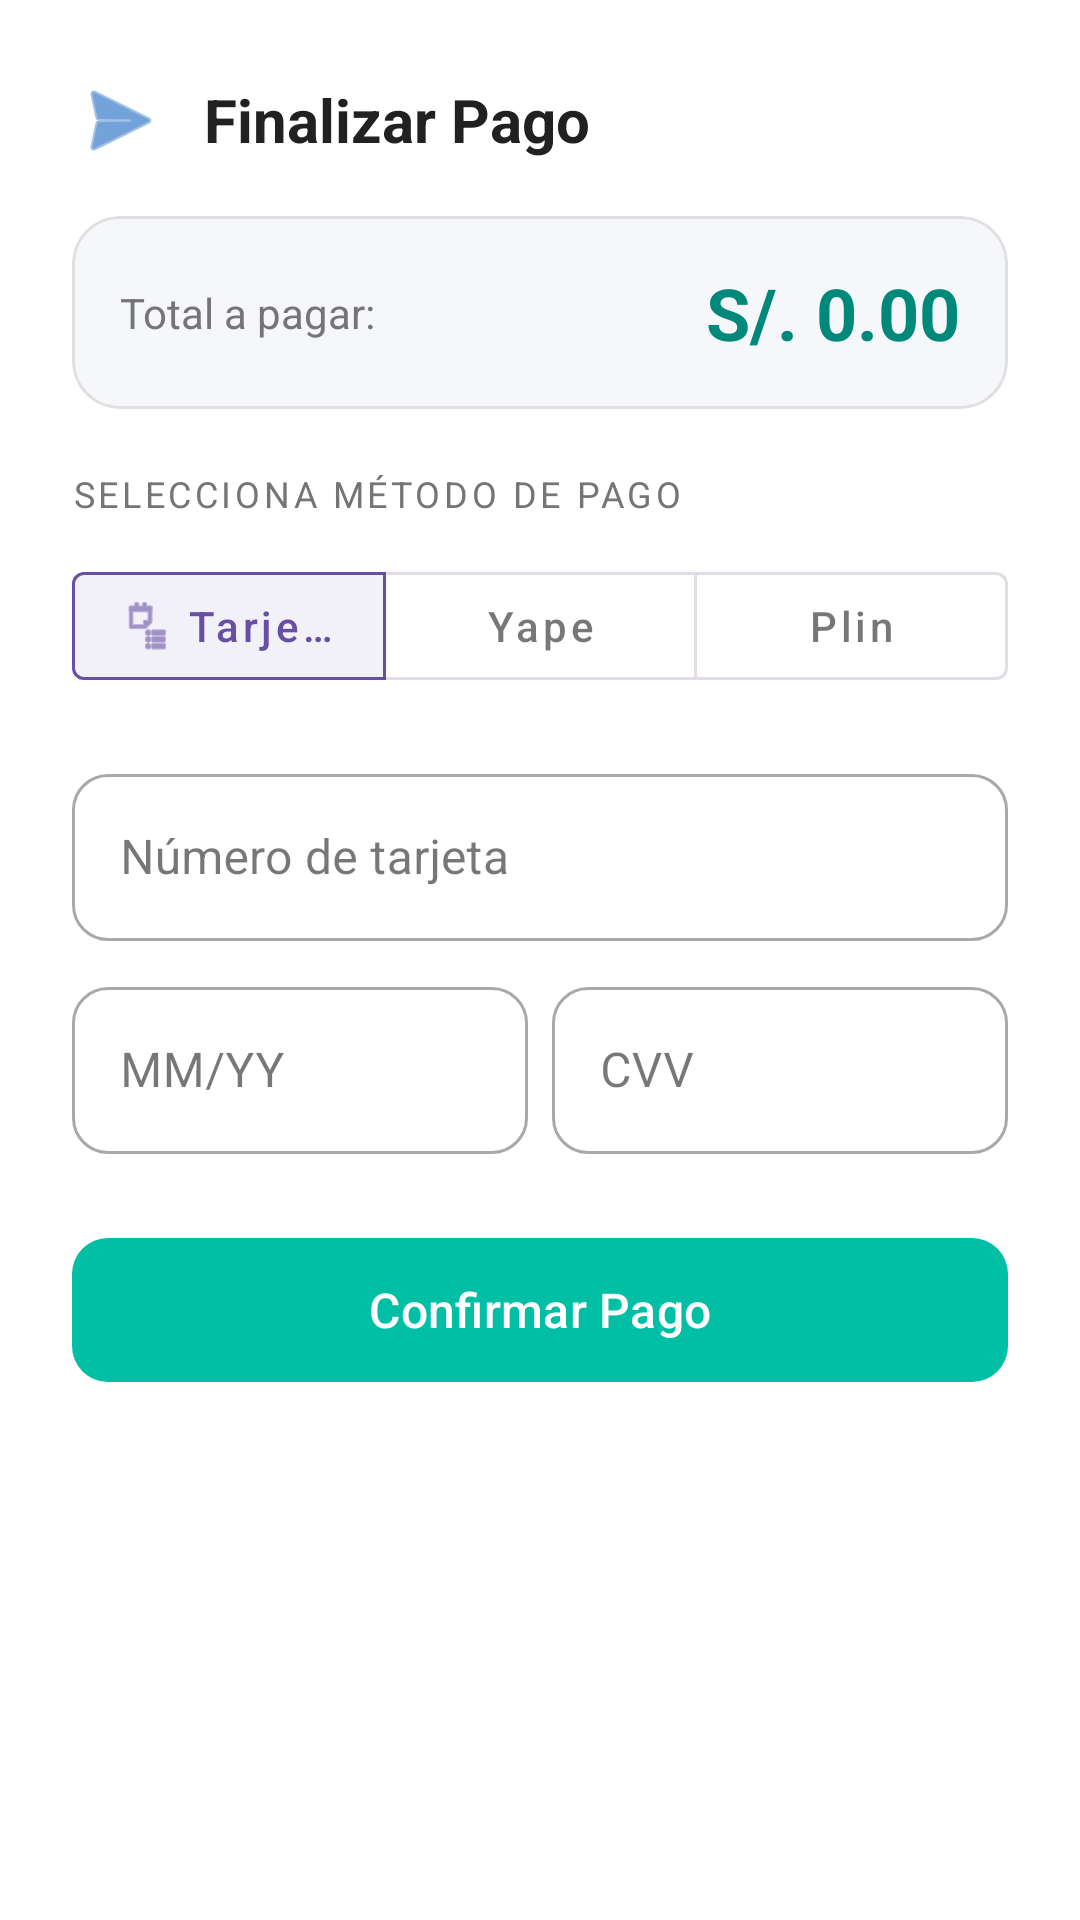

Icon bounding boxes for this 1080px x 1920px phone screenshot, format bbox(x1, y1, x2, y2):
send: bbox(90, 90, 152, 151)
